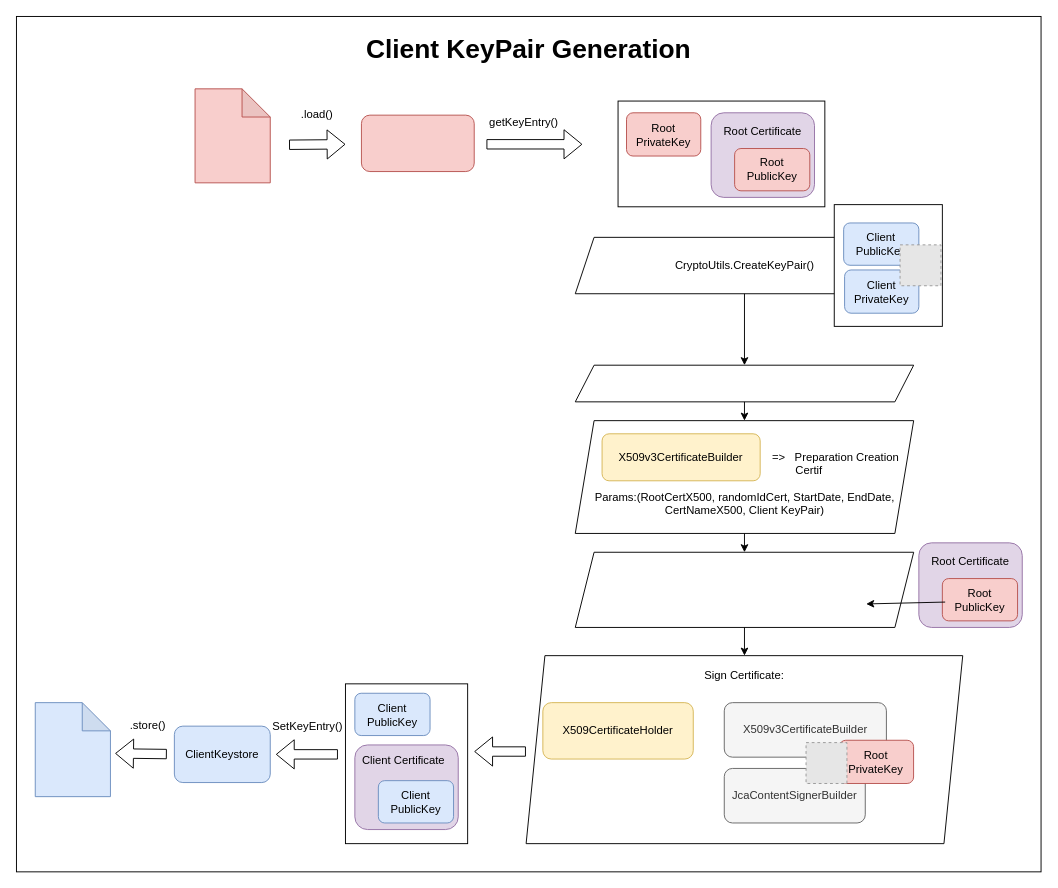
Image size: 1058x888. Some labels were removed from this diagram. Grey dashed boxes stand in for pictures. Here are the shapes that lost their labels. From the top down, the centre of each, then its label:
pixel 232 135: Root Keystore.p12
pixel 417 143: RootKeystore
pixel 744 383: Get SartDate + EndDate
pixel 744 589: add Extensions: basicConstraints() authorityKeyIdentifier (PublicKeyRoot)
pixel 72 749: Client Keystore.p12
